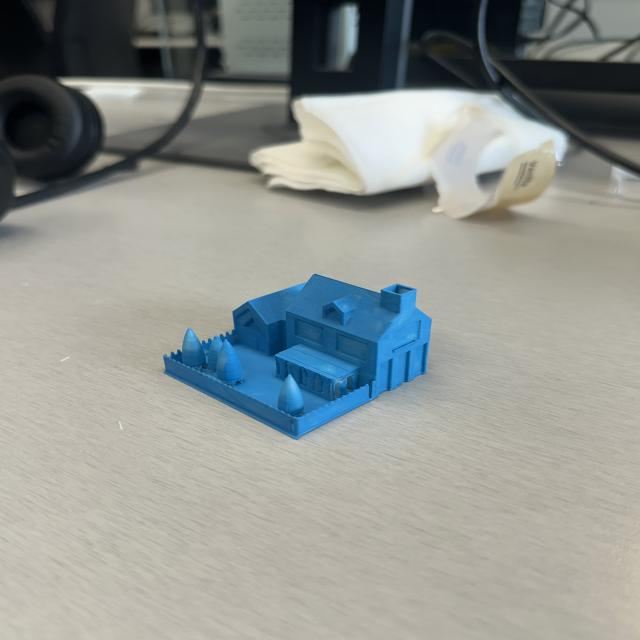house: (162, 273, 434, 440)
